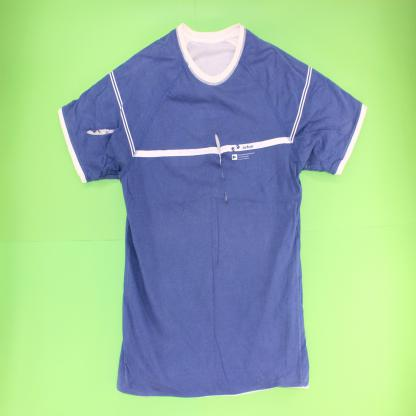hole: (214, 129, 228, 204), (84, 125, 120, 141)
